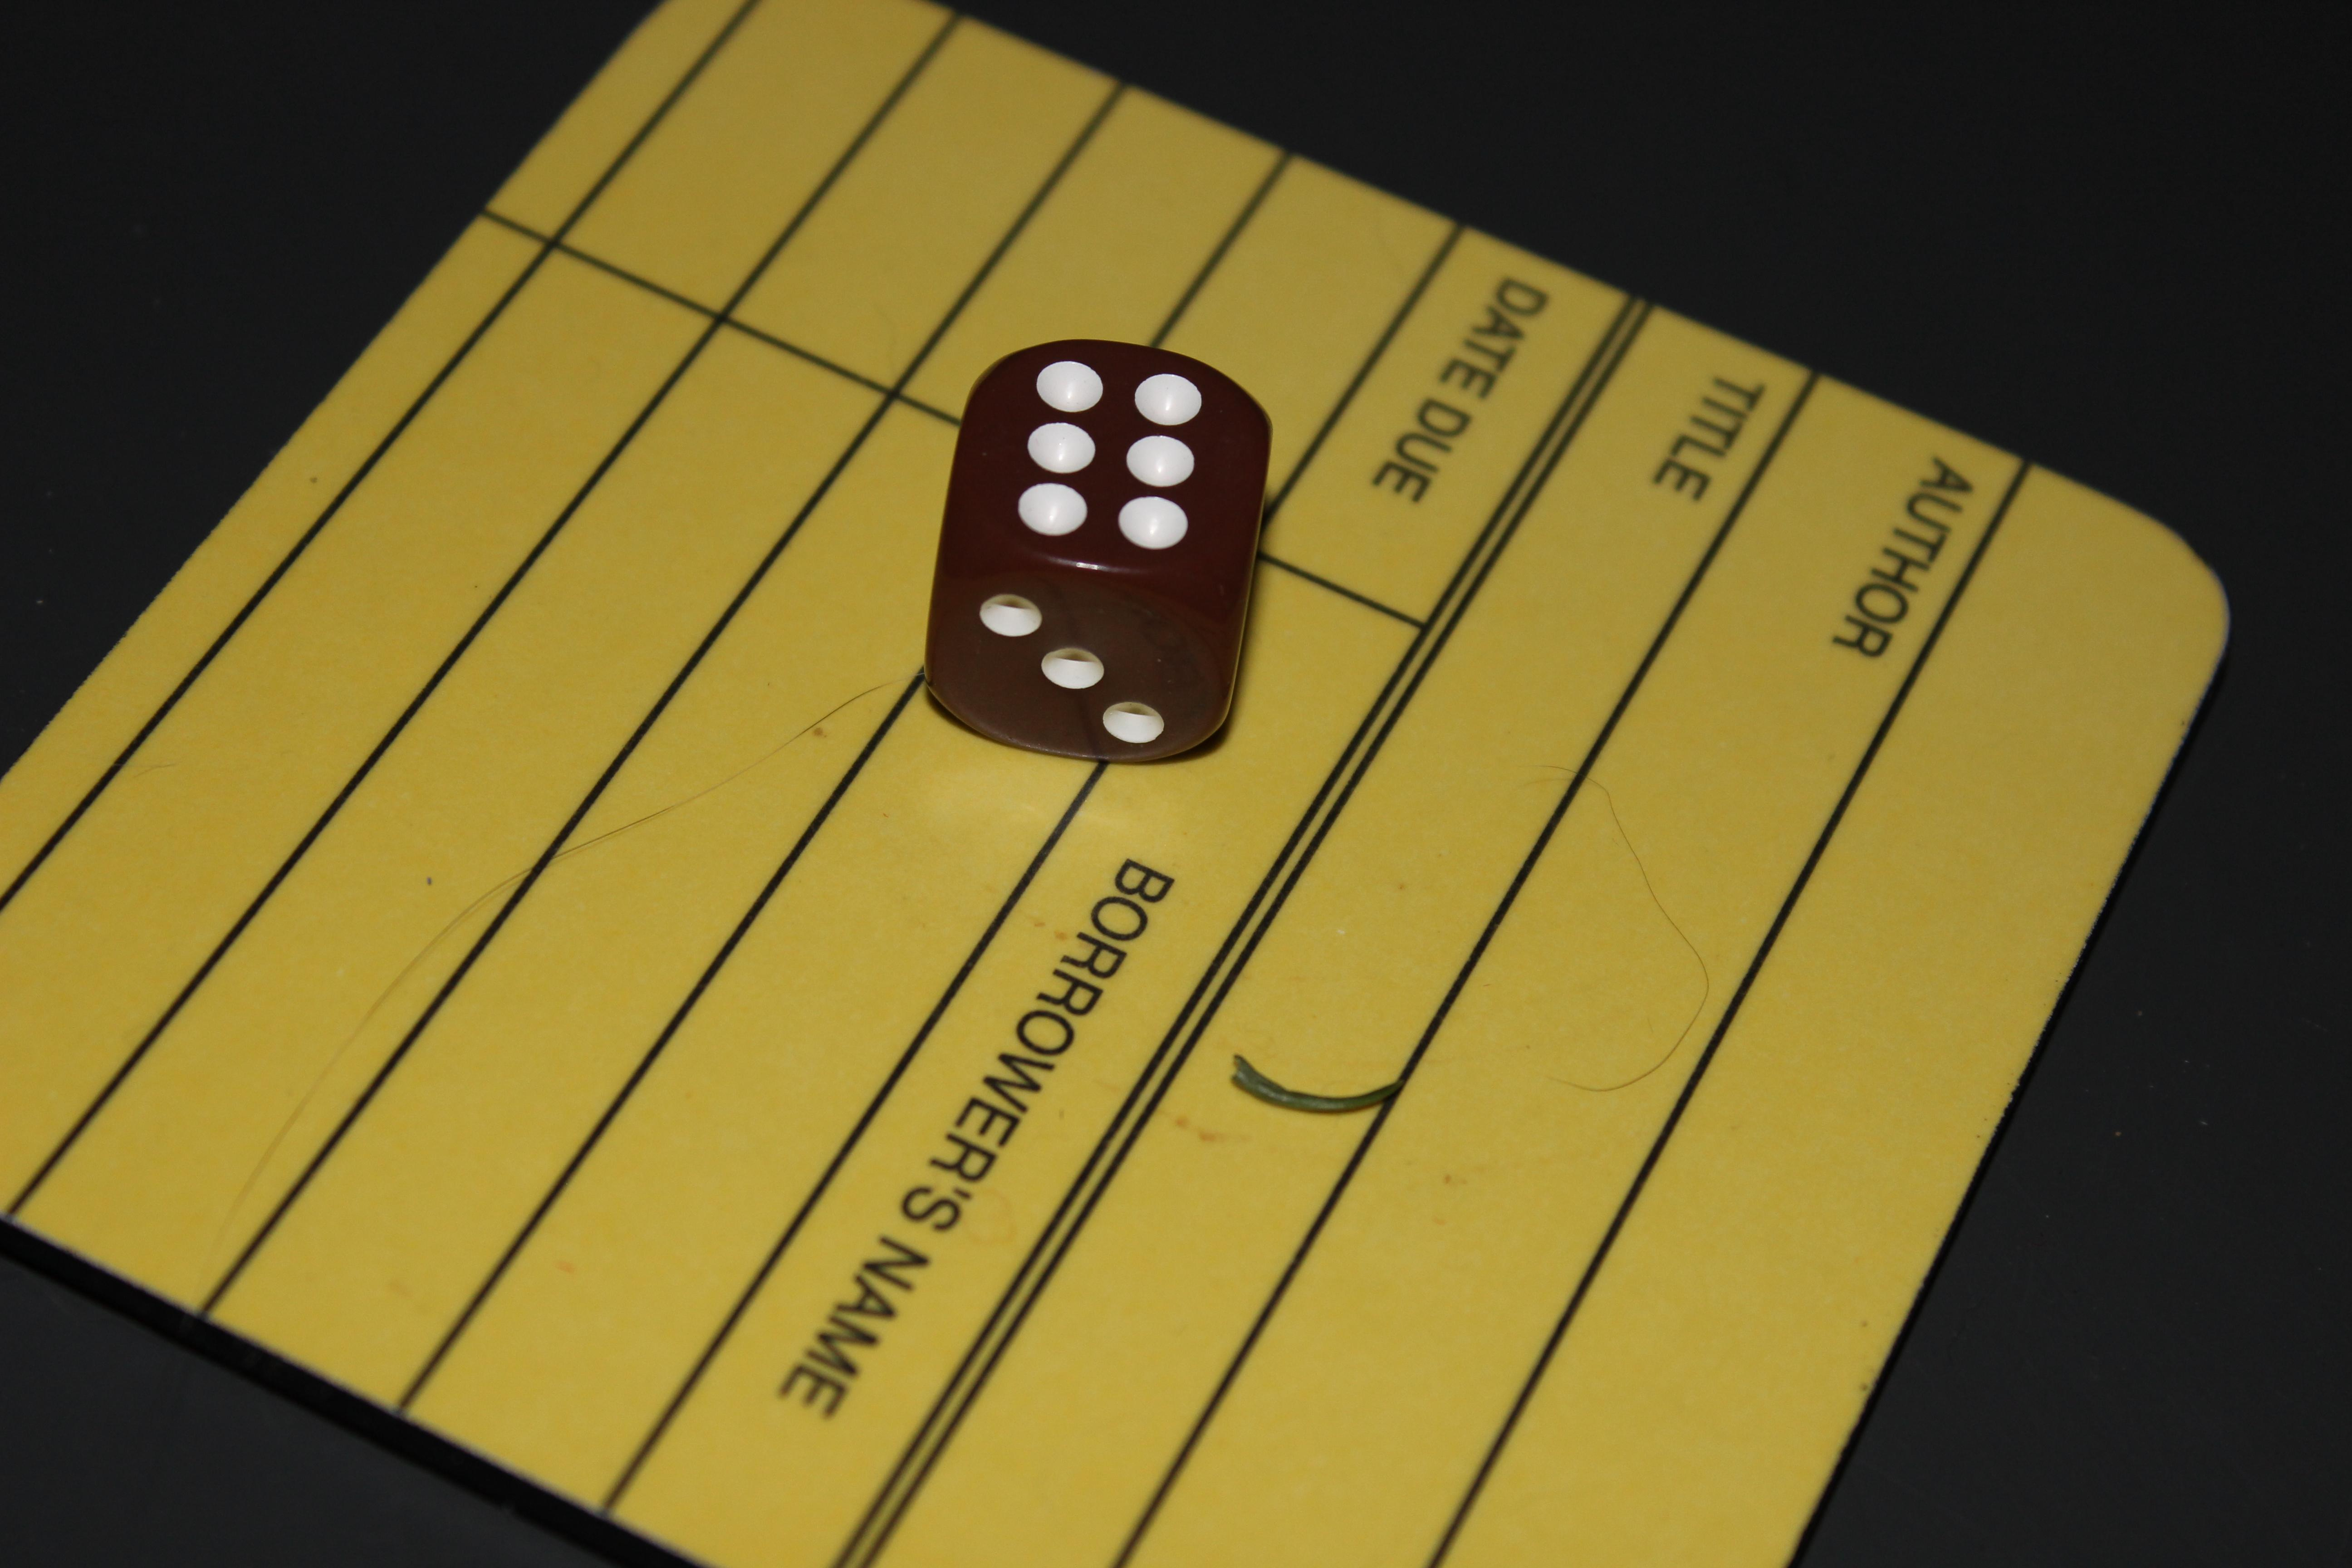brownDie: (857, 317, 1328, 810)
